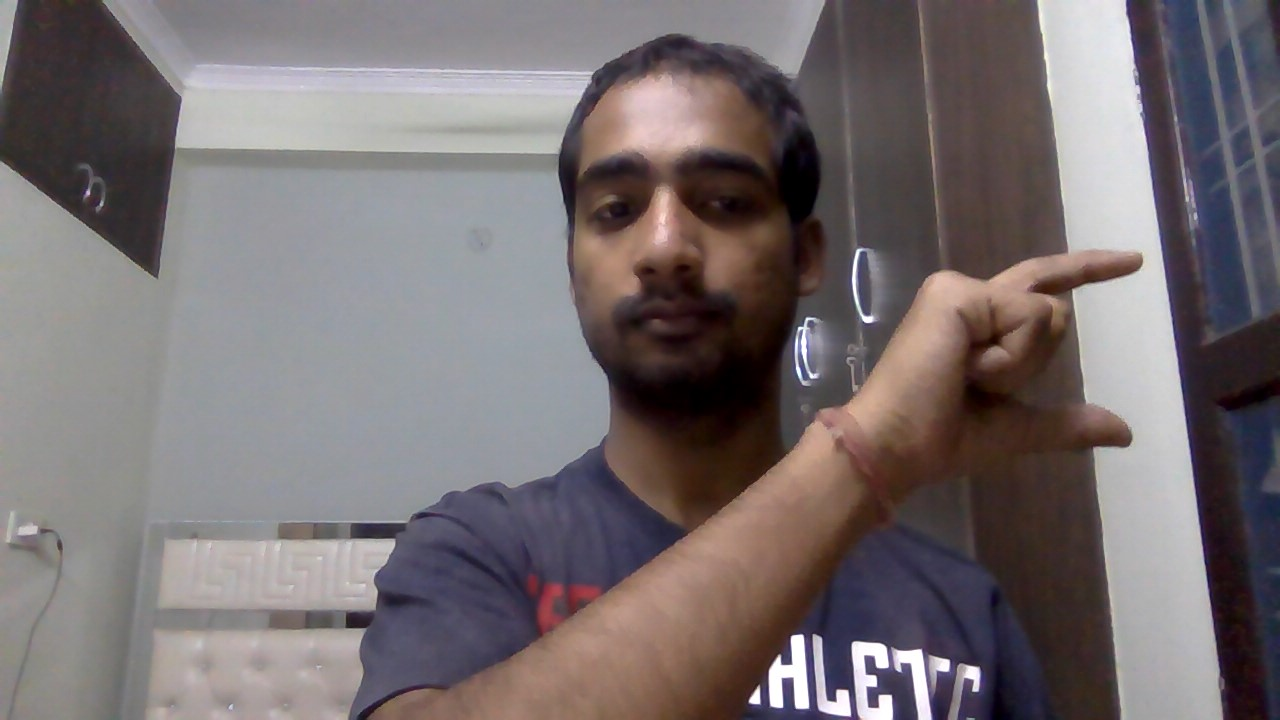Paste: (836, 239, 1153, 497)
